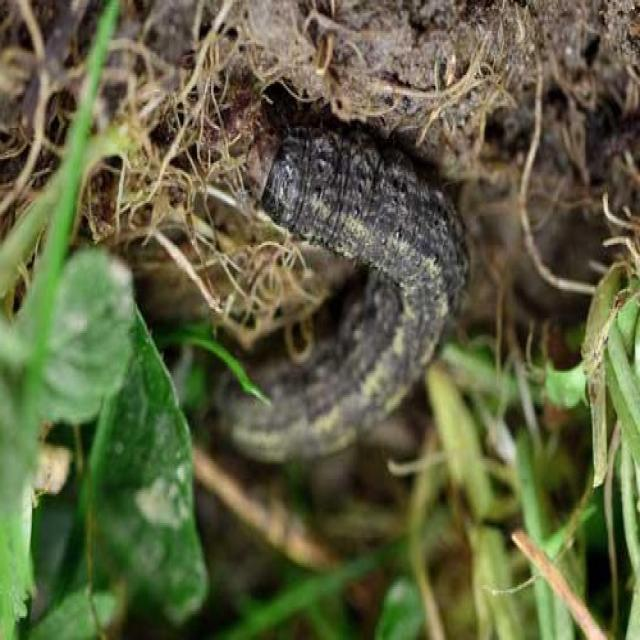black cutworm: (201, 119, 469, 479)
